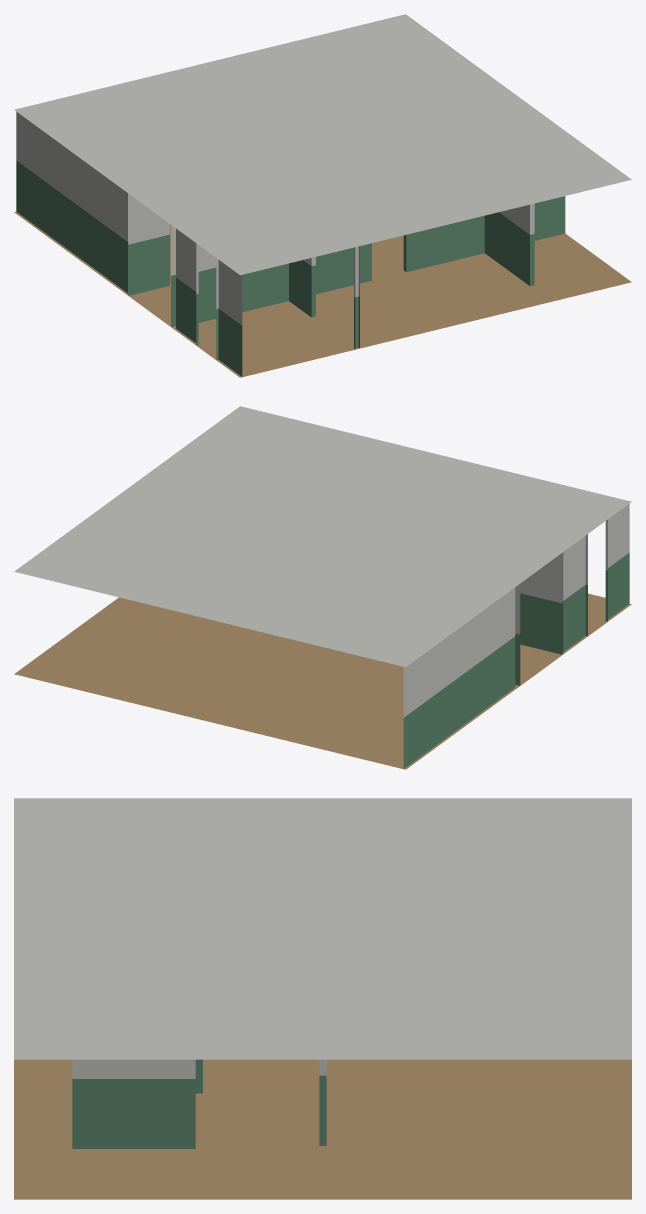
Rendered from chunk_2_1.glb.
3 views of the same model, one above another, from view 1: azimuth 30°, elevation 25°; view 2: azimuth 150°, elevation 25°; view 3: azimuth 270°, elevation 25° (orthographic). The views are drawn at different scales.
Visible parts, largest first — view 1: chunk_2_1; view 2: chunk_2_1; view 3: chunk_2_1.
Boxes of the visible parts, x1,y1,x2,y2 form: chunk_2_1: (14,14,631,377); chunk_2_1: (14,406,631,769); chunk_2_1: (14,798,631,1199).
Size of the model in its own units: 12 by 3 by 12.
